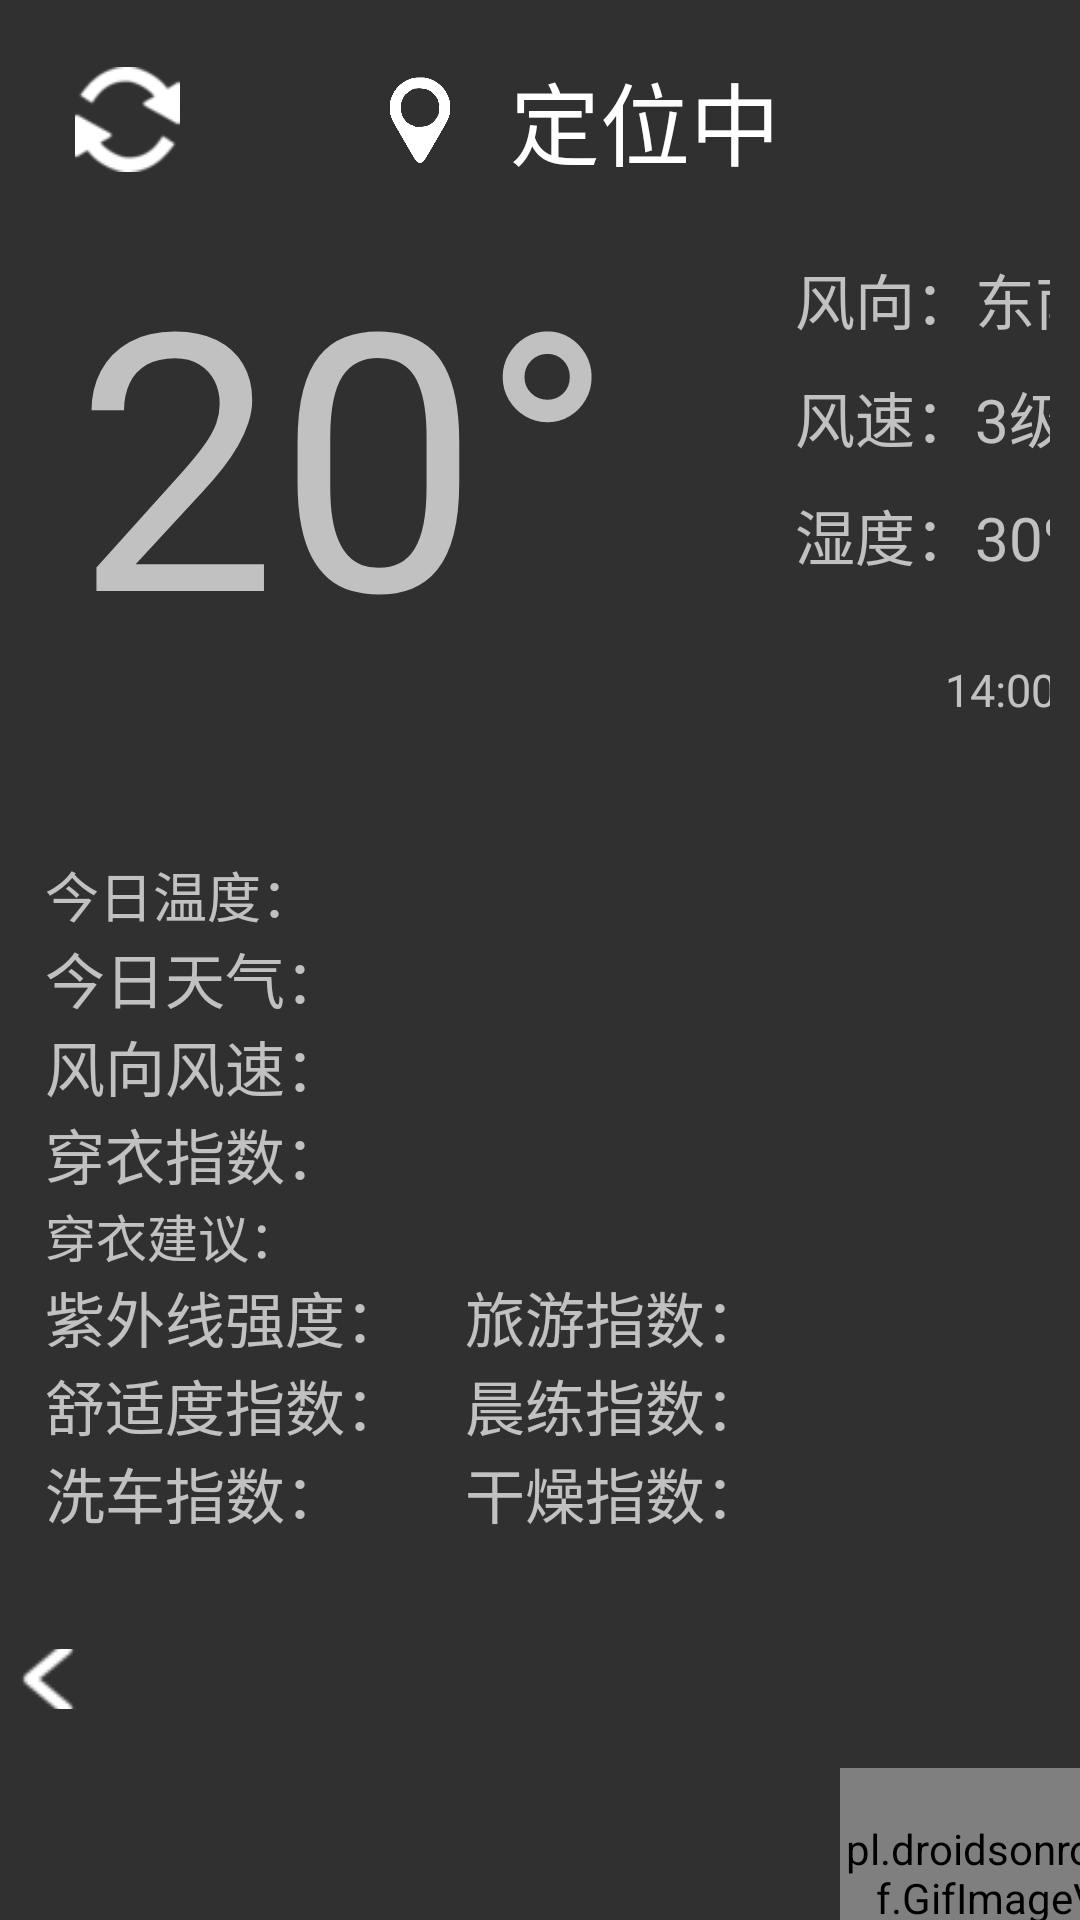

Named icons in this screenshot (1080 × 1920) and their centers, point (x, y):
shuaxin: point (127, 119)
